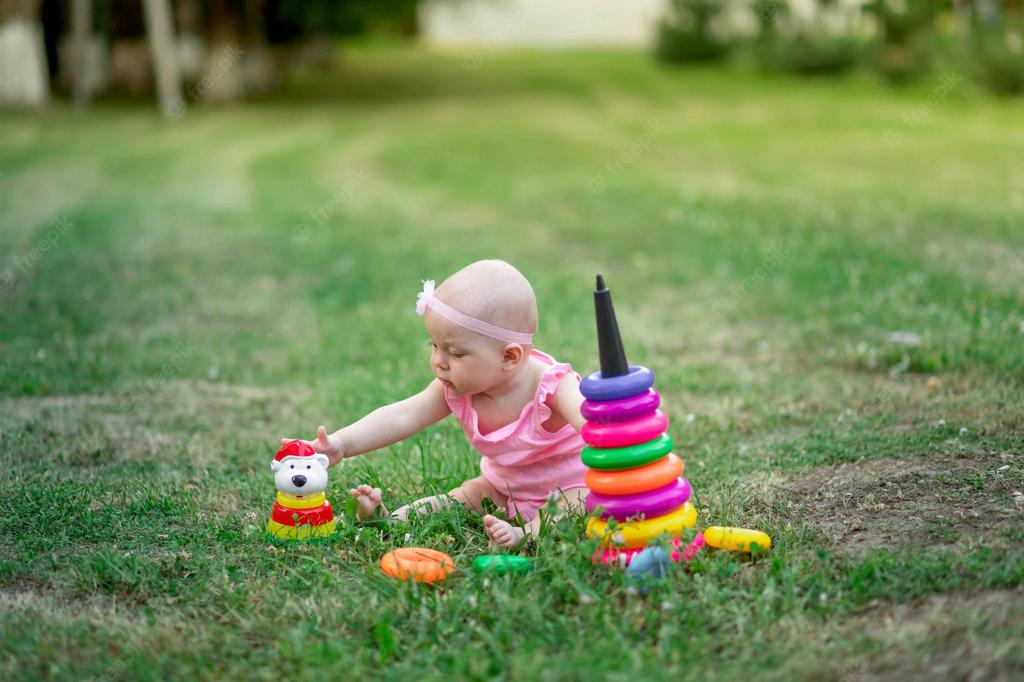child: (305, 252, 604, 559)
